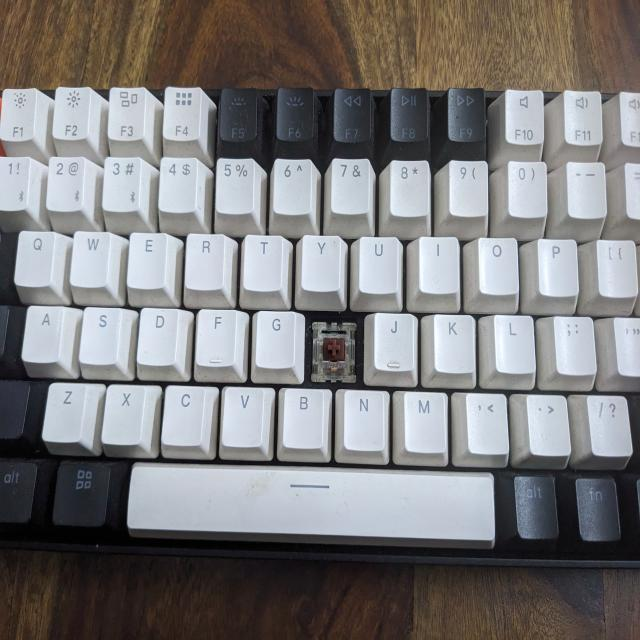C: (311, 318, 357, 376)
